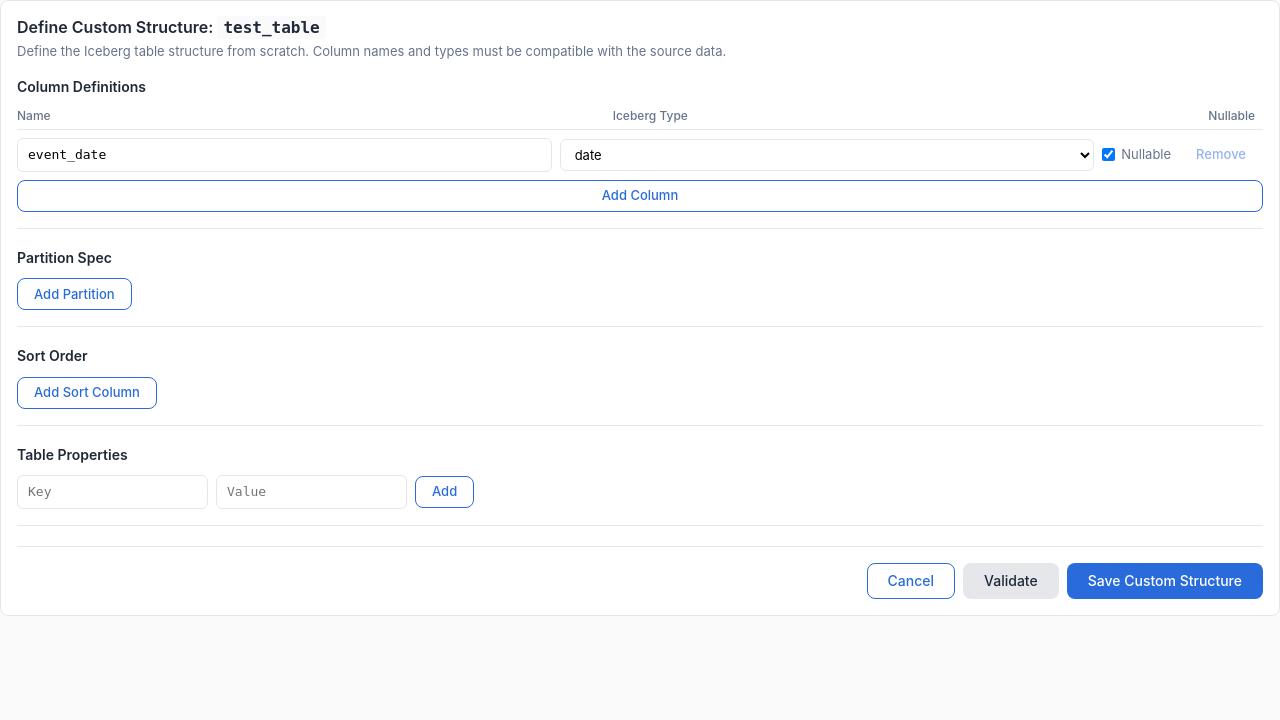
Test: IcebergCustomStructureEditor › adds a partition when Add Partition is clicked
Click the button "Add Partition".
click(74, 294)  # box [17,278,132,310]
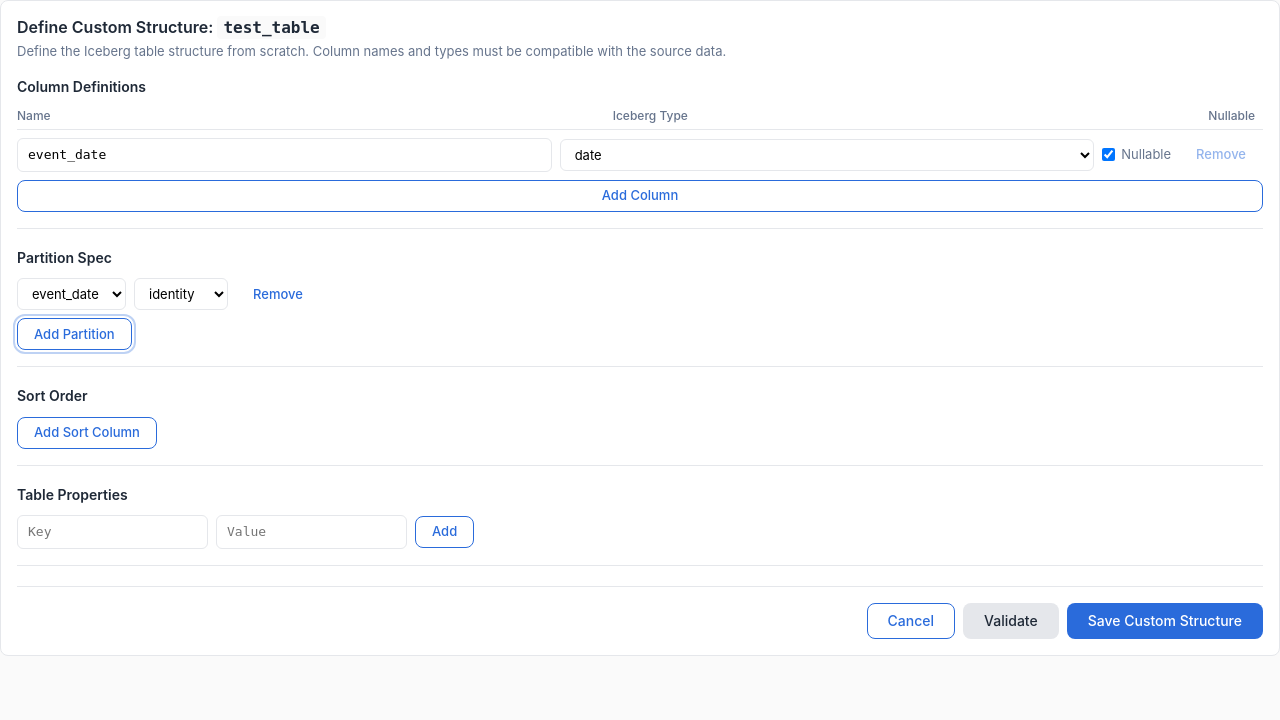
Result: the dropdown named "Partition 1 column" is shown at [17,278,126,310]
Result: the dropdown named "Partition 1 transform" is shown at [134,278,228,310]
